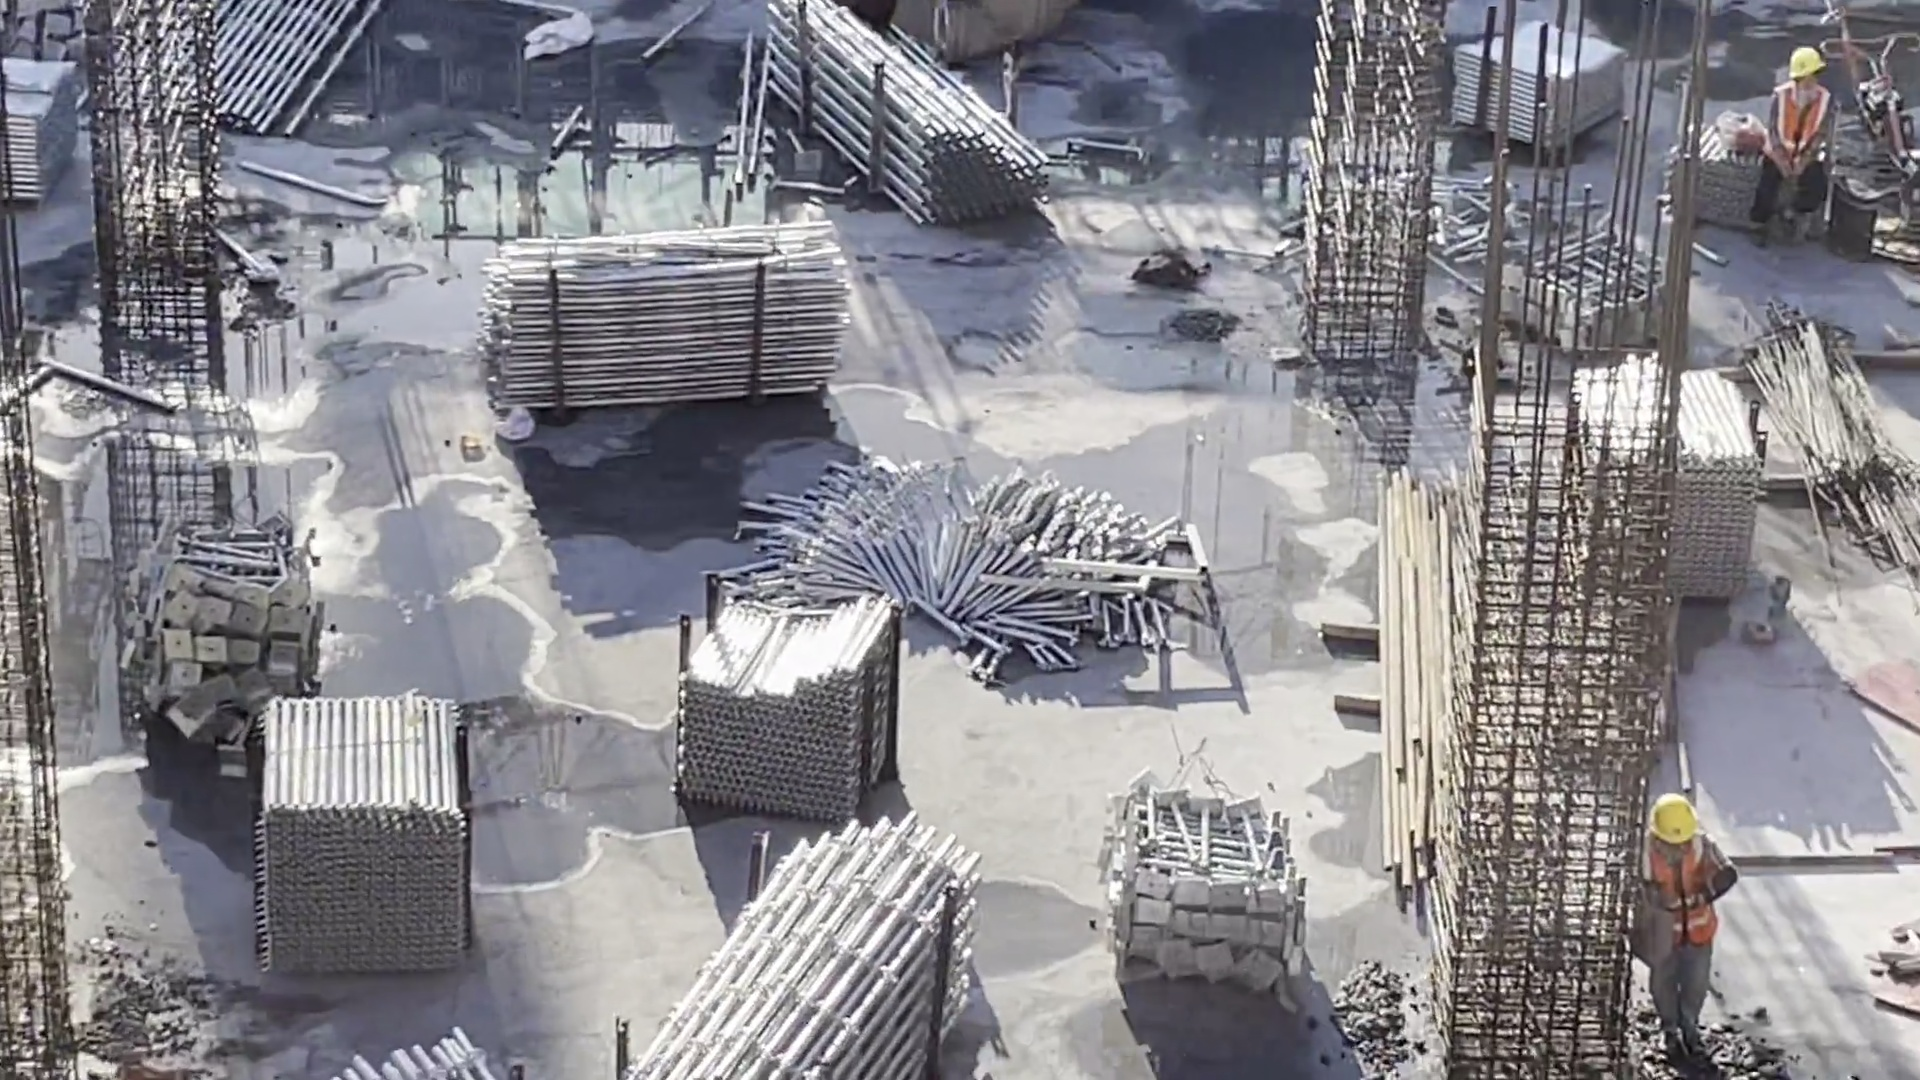helmet: (1644, 789, 1700, 852), (1788, 42, 1834, 82)
hopper: (921, 1, 1091, 57)
person: (1636, 783, 1741, 1067), (1756, 39, 1844, 260)
scaffold: (599, 836, 994, 1080), (762, 454, 1172, 670), (252, 702, 504, 971), (680, 542, 928, 808), (766, 1, 1043, 235), (457, 238, 859, 394), (1568, 347, 1762, 614), (1101, 771, 1313, 974), (126, 551, 314, 732), (196, 1, 390, 141), (1457, 184, 1649, 314), (1456, 18, 1613, 146), (1, 55, 87, 202)
vest: (1634, 836, 1719, 939), (1771, 89, 1831, 174)
